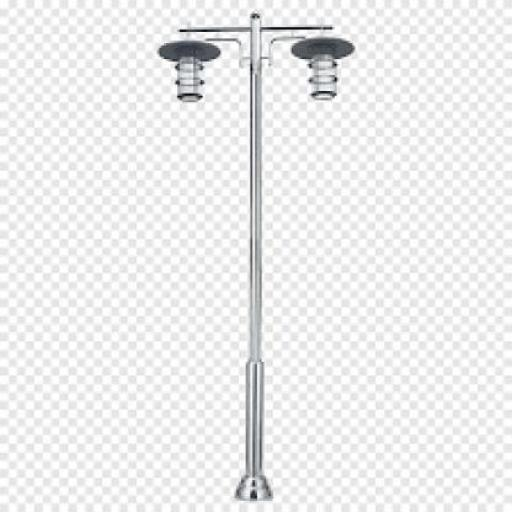street light: (158, 11, 356, 498)
